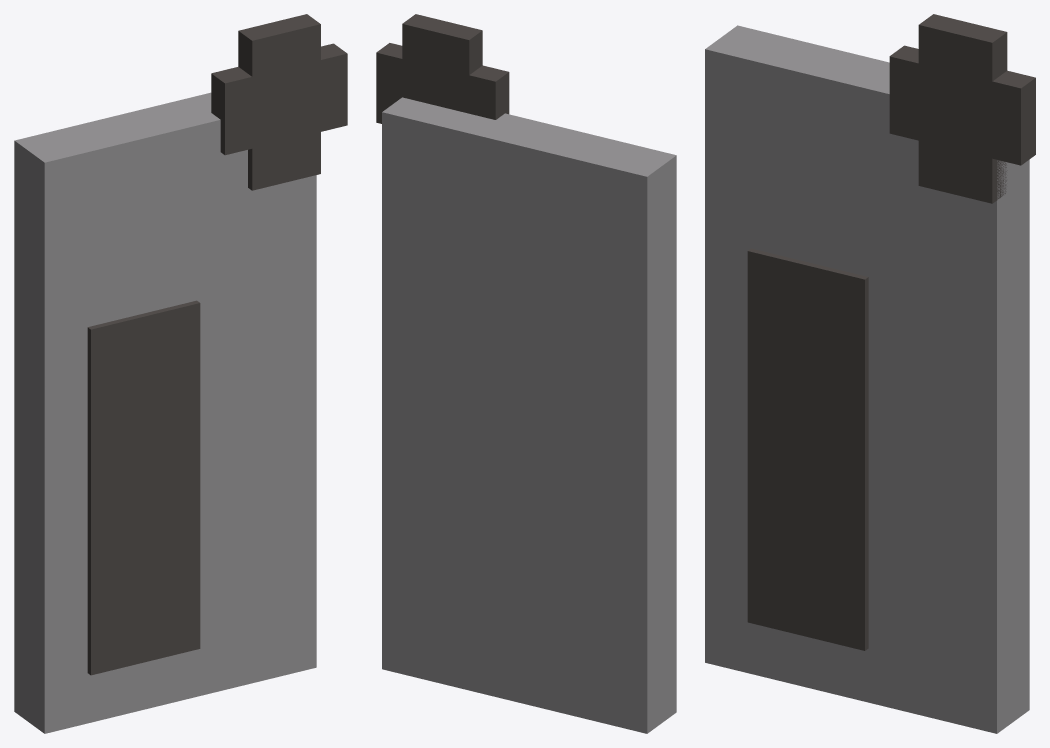
The model's file is jazCarolinaBeatrizAngelo.fbx.
3 views of the same model, side by side, from view 1: azimuth 30°, elevation 25°; view 2: azimuth 150°, elevation 25°; view 3: azimuth 330°, elevation 25° (orthographic). The views are drawn at different scales.
Parts seen in each view (by area): view 1: root (×4); view 2: root (×3); view 3: root (×4).
Part boxes in pixels (<box>): root (×4): <box>14,14,347,733</box>; root (×3): <box>376,14,676,733</box>; root (×4): <box>705,14,1035,733</box>.
Size of the model in its own units: 0.2263 by 0.4684 by 0.0453.
4 materials, 4 textured.
